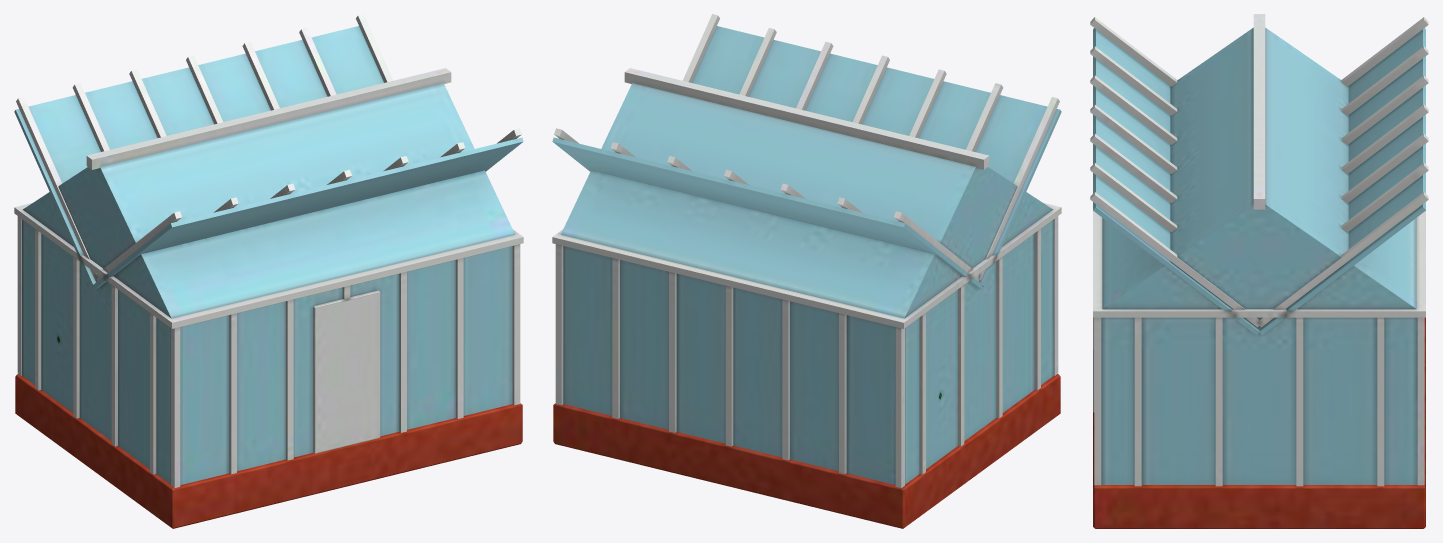
File: greenhouse.glb
3 renders of one model, left to right at view 1: azimuth 30°, elevation 25°; view 2: azimuth 150°, elevation 25°; view 3: azimuth 270°, elevation 25°, orthographic. The views are drawn at different scales.
Visible parts, largest first — view 1: greenhouse; view 2: greenhouse; view 3: greenhouse.
Boxes of the visible parts, box(x1,y1,x2,y2) form: greenhouse: box(14, 14, 523, 528); greenhouse: box(552, 14, 1061, 528); greenhouse: box(1090, 14, 1428, 528).
Bounding box in the file's own units: 1.84 × 1.55 × 1.42.
Materials: 1 (1 with a texture image).
